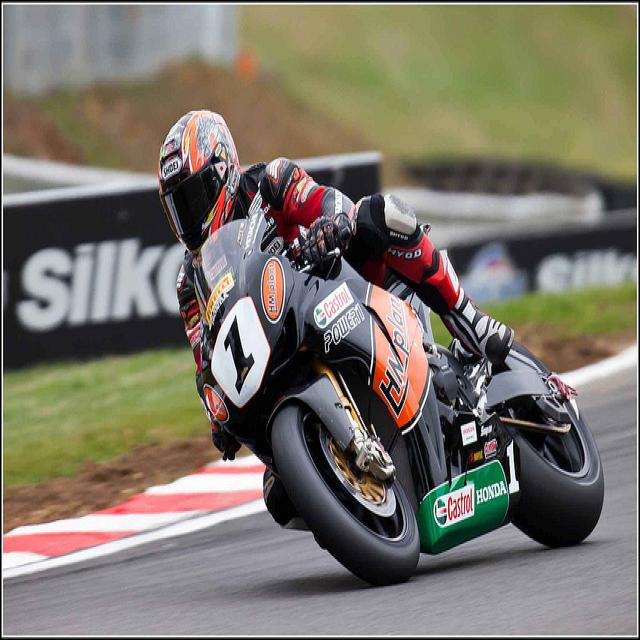motor: (189, 214, 611, 588)
